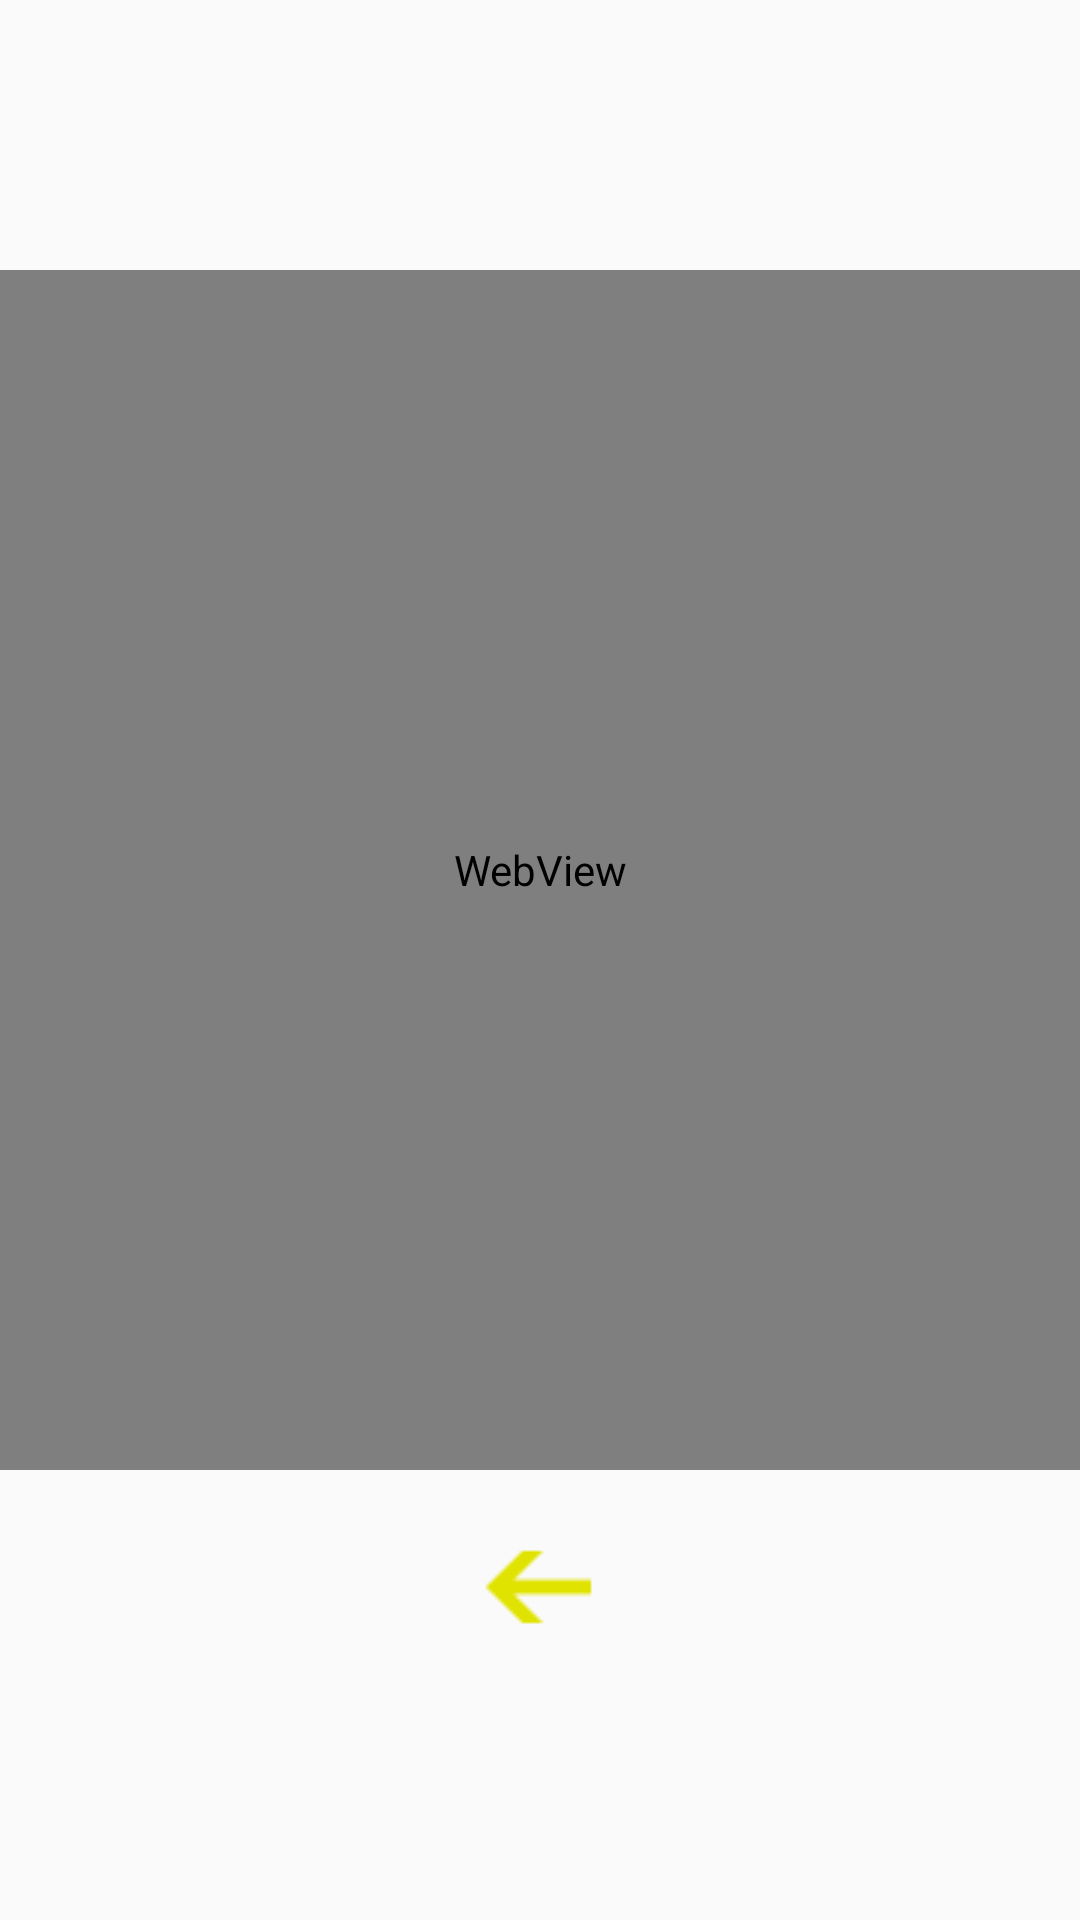

Where to tap for icons on this 1080px x 1920px app screen, as [x,y]:
back: [538,1587]
